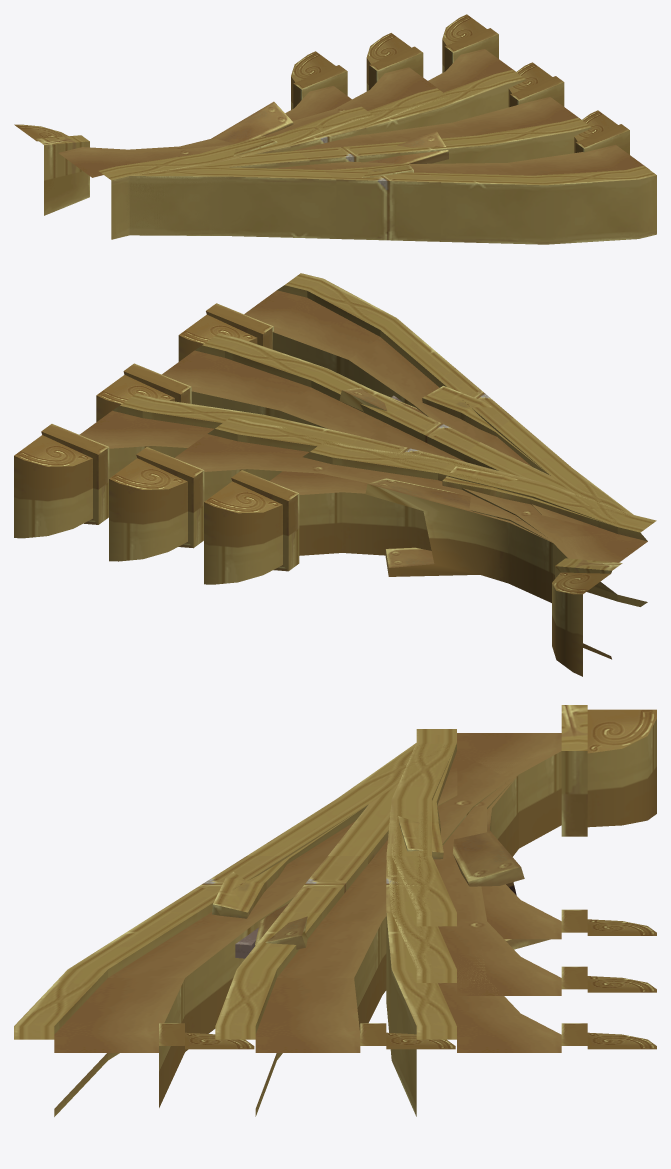
3 renders of one model, top to bottom at view 1: azimuth 30°, elevation 25°; view 2: azimuth 150°, elevation 25°; view 3: azimuth 270°, elevation 25°, orthographic. The views are drawn at different scales.
Parts seen in each view (by area): view 1: buttress.model-MeshSets[buttress_up].Mesh[0], buttress.model-MeshSets[buttress_up_half].Mesh[0], buttress.model-MeshSets[buttress_arch_5-wide].Mesh[0], buttress.model-MeshSets[buttress_arch_3-wide].Mesh[0], buttress.model-MeshSets[buttress_arch_4-wide].Mesh[0], buttress.model-MeshSets[buttress_up_broken].Mesh[0], buttress.model-MeshSets[buttress_arch_broken].Mesh[0]; view 2: buttress.model-MeshSets[buttress_arch_3-wide].Mesh[0], buttress.model-MeshSets[buttress_up].Mesh[0], buttress.model-MeshSets[buttress_up_half].Mesh[0], buttress.model-MeshSets[buttress_arch_4-wide].Mesh[0], buttress.model-MeshSets[buttress_arch_5-wide].Mesh[0], buttress.model-MeshSets[buttress_arch_broken].Mesh[0], buttress.model-MeshSets[buttress_up_broken].Mesh[0]; view 3: buttress.model-MeshSets[buttress_up_half].Mesh[0], buttress.model-MeshSets[buttress_up].Mesh[0], buttress.model-MeshSets[buttress_arch_3-wide].Mesh[0], buttress.model-MeshSets[buttress_arch_4-wide].Mesh[0], buttress.model-MeshSets[buttress_arch_5-wide].Mesh[0], buttress.model-MeshSets[buttress_up_broken].Mesh[0], buttress.model-MeshSets[buttress_arch_broken].Mesh[0].
Part boxes in pixels (<box>): buttress.model-MeshSets[buttress_up].Mesh[0]: <box>18,110,656,244</box>; buttress.model-MeshSets[buttress_up_half].Mesh[0]: <box>26,62,591,238</box>; buttress.model-MeshSets[buttress_arch_5-wide].Mesh[0]: <box>36,14,525,238</box>; buttress.model-MeshSets[buttress_arch_3-wide].Mesh[0]: <box>14,51,374,239</box>; buttress.model-MeshSets[buttress_arch_4-wide].Mesh[0]: <box>37,33,448,214</box>; buttress.model-MeshSets[buttress_up_broken].Mesh[0]: <box>24,125,448,239</box>; buttress.model-MeshSets[buttress_arch_broken].Mesh[0]: <box>36,101,293,211</box>; buttress.model-MeshSets[buttress_arch_3-wide].Mesh[0]: <box>204,441,656,676</box>; buttress.model-MeshSets[buttress_up].Mesh[0]: <box>178,273,633,657</box>; buttress.model-MeshSets[buttress_up_half].Mesh[0]: <box>96,333,641,670</box>; buttress.model-MeshSets[buttress_arch_4-wide].Mesh[0]: <box>109,417,641,676</box>; buttress.model-MeshSets[buttress_arch_5-wide].Mesh[0]: <box>14,393,644,675</box>; buttress.model-MeshSets[buttress_arch_broken].Mesh[0]: <box>365,466,617,675</box>; buttress.model-MeshSets[buttress_up_broken].Mesh[0]: <box>339,386,647,668</box>; buttress.model-MeshSets[buttress_up_half].Mesh[0]: <box>215,718,656,1116</box>; buttress.model-MeshSets[buttress_up].Mesh[0]: <box>14,712,656,1116</box>; buttress.model-MeshSets[buttress_arch_3-wide].Mesh[0]: <box>391,709,656,939</box>; buttress.model-MeshSets[buttress_arch_4-wide].Mesh[0]: <box>386,705,656,995</box>; buttress.model-MeshSets[buttress_arch_5-wide].Mesh[0]: <box>386,706,656,1116</box>; buttress.model-MeshSets[buttress_up_broken].Mesh[0]: <box>212,720,656,958</box>; buttress.model-MeshSets[buttress_arch_broken].Mesh[0]: <box>398,709,656,949</box>.
Bounding box in the file's own units: 6.01 × 0.8992 × 4.79.
Materials: 1 (1 with a texture image).
